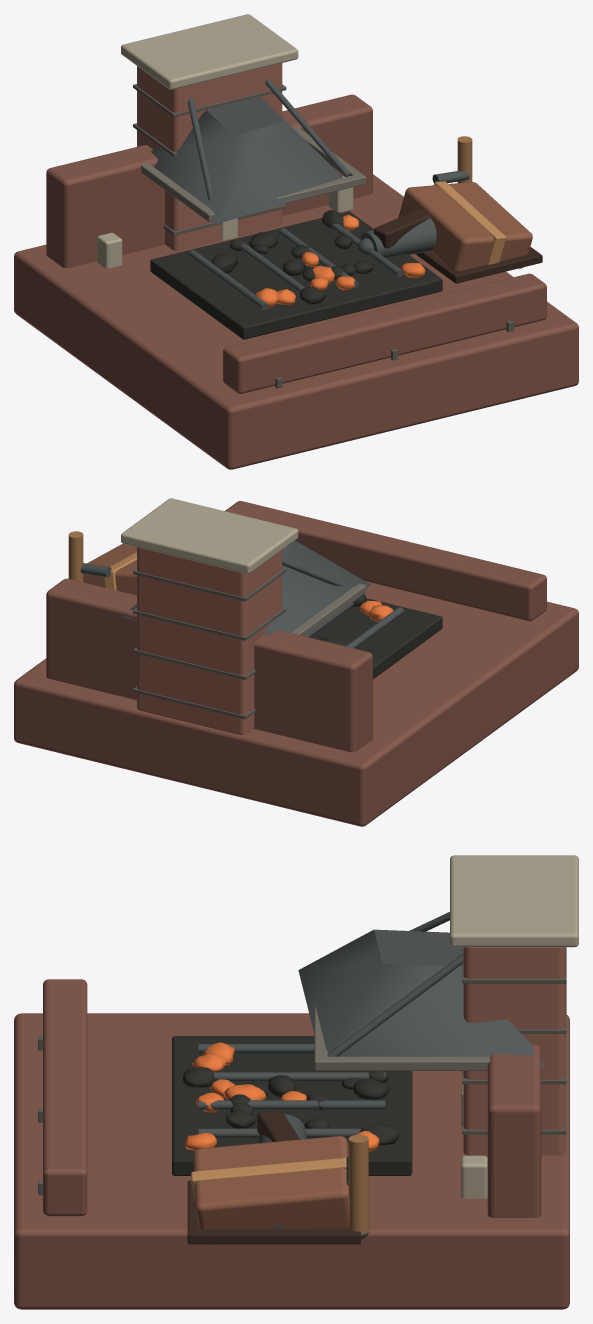
File: detail_forge.glb
3 views of the same model, one above another, from view 1: azimuth 30°, elevation 25°; view 2: azimuth 150°, elevation 25°; view 3: azimuth 270°, elevation 25° (orthographic). The views are drawn at different scales.
Parts seen in each view (by area): view 1: wood, stone, brick, cloth, metal; view 2: wood, brick, stone, cloth, metal; view 3: wood, stone, cloth, brick, metal.
Boxes of the visible parts, x1,y1,x2,y2 form: wood: (14, 14, 578, 469); stone: (133, 79, 513, 388); brick: (137, 63, 282, 250); cloth: (398, 181, 532, 271); metal: (189, 223, 403, 310); wood: (14, 498, 578, 826); brick: (137, 547, 282, 734); stone: (80, 540, 442, 719); cloth: (83, 543, 136, 595); metal: (306, 602, 403, 648); wood: (14, 855, 578, 1309); stone: (38, 912, 566, 1239); cloth: (191, 1136, 349, 1245); brick: (463, 947, 565, 1155); metal: (198, 1044, 385, 1228).
Size of the model in its own units: 3 by 1.8 by 3.
